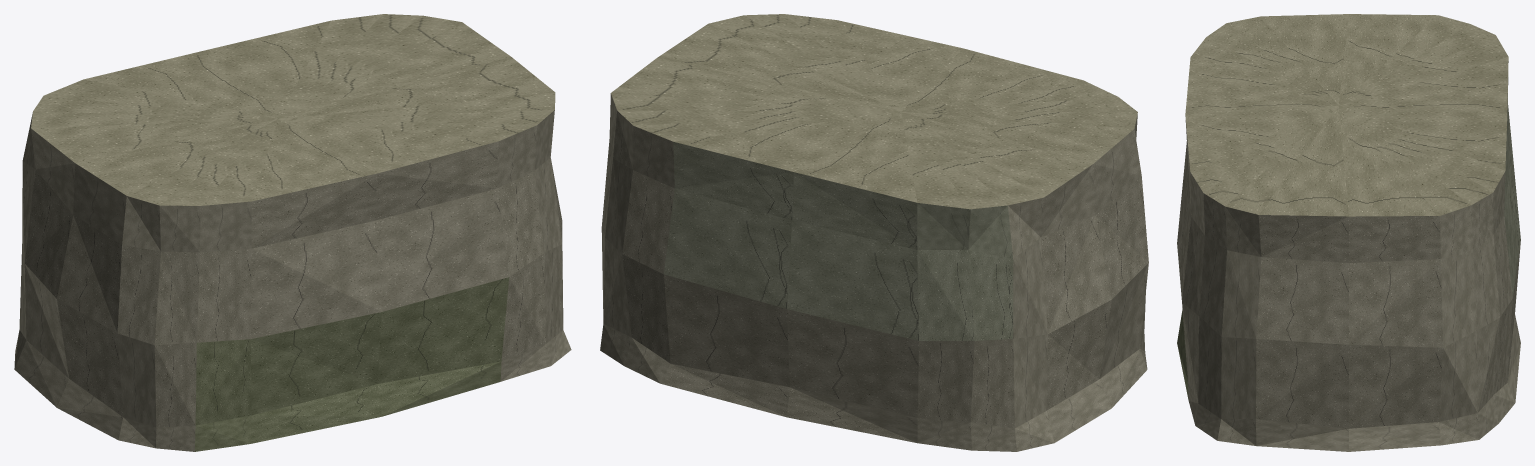
File: SM_QD_Reef_A_LowSlab.fbx
The picture shows the model from 3 angles, left to right: view 1: azimuth 30°, elevation 25°; view 2: azimuth 150°, elevation 25°; view 3: azimuth 270°, elevation 25°; orthographic projection. The views are drawn at different scales.
Parts seen in each view (by area): view 1: SM_QD_Reef_A_LowSlab; view 2: SM_QD_Reef_A_LowSlab; view 3: SM_QD_Reef_A_LowSlab.
Part boxes in pixels (x1,y1,x2,y2): SM_QD_Reef_A_LowSlab: (14,14,571,451); SM_QD_Reef_A_LowSlab: (600,14,1148,451); SM_QD_Reef_A_LowSlab: (1177,14,1520,451).
Size of the model in its own units: 4.5 by 3 by 2.2.
1 material, 1 textured.
